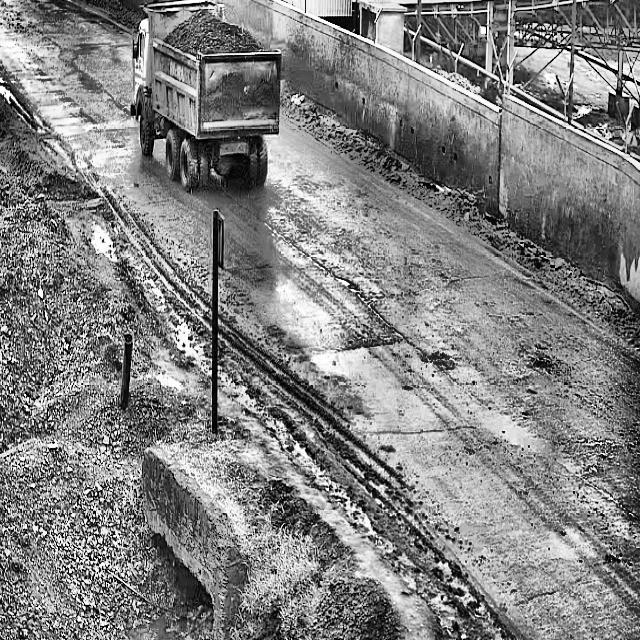dump_truck: (118, 0, 286, 195)
